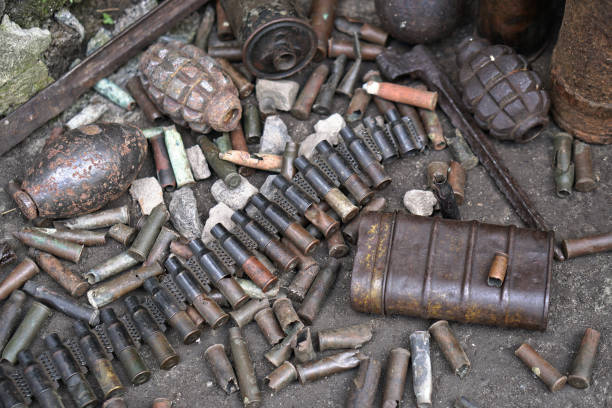e1: (136, 41, 246, 136), (455, 40, 547, 141)
